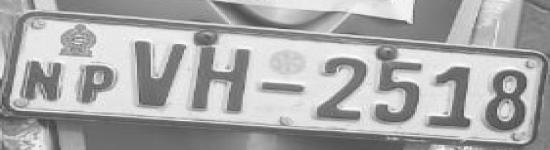-: (257, 80, 309, 97)
1: (424, 59, 478, 130)
2: (312, 54, 370, 122)
5: (371, 57, 426, 122)
8: (477, 68, 534, 134)
H: (191, 44, 252, 116)
N: (20, 58, 69, 107)
P: (72, 59, 124, 106)
V: (130, 36, 187, 112)
